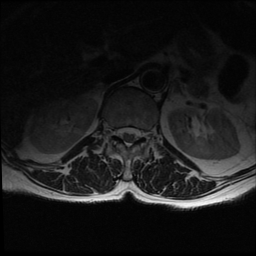CCS_normal: (125, 117, 133, 156)
LFS_normal: (141, 120, 149, 147)
LLS_normal: (133, 118, 141, 149)
RFS_normal: (108, 118, 116, 143)
RLS_normal: (116, 119, 125, 146)
